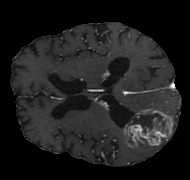Edema: (110, 114, 159, 148)
EnhancingTumors: (123, 107, 174, 149)
Necrosis: (127, 114, 166, 145)
